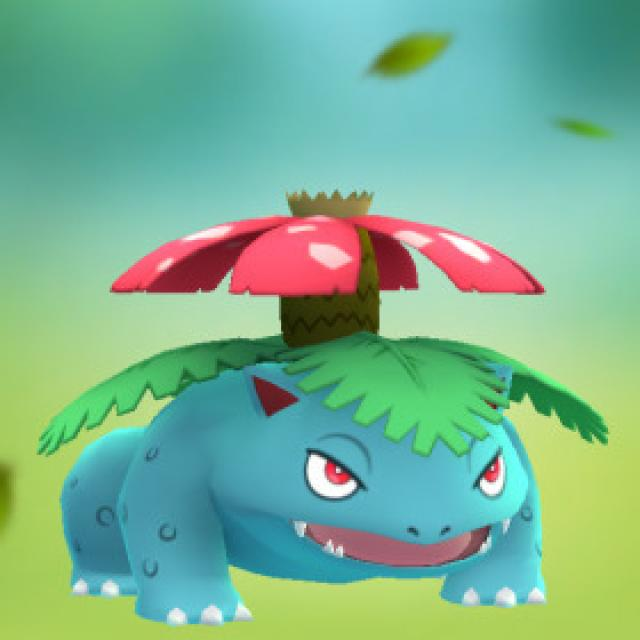Venusaur: (101, 190, 554, 628)
